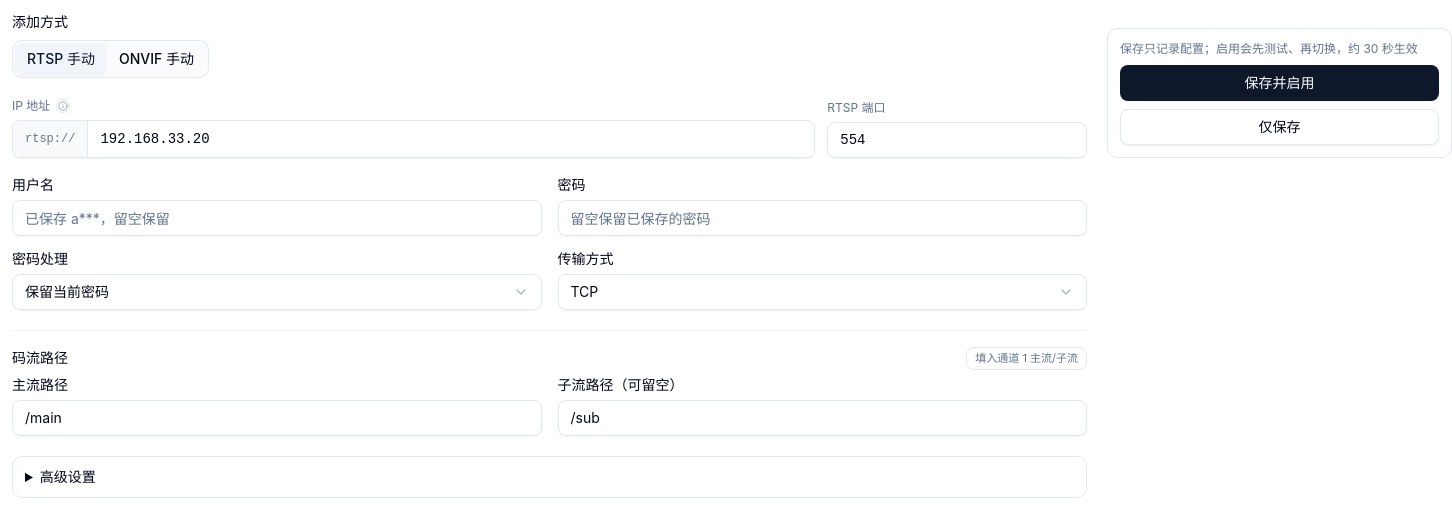
Test: a known brand offers its RTSP path template
Click the button "填入通道 1 主流/子流": (1027, 358) [966,347,1087,370]
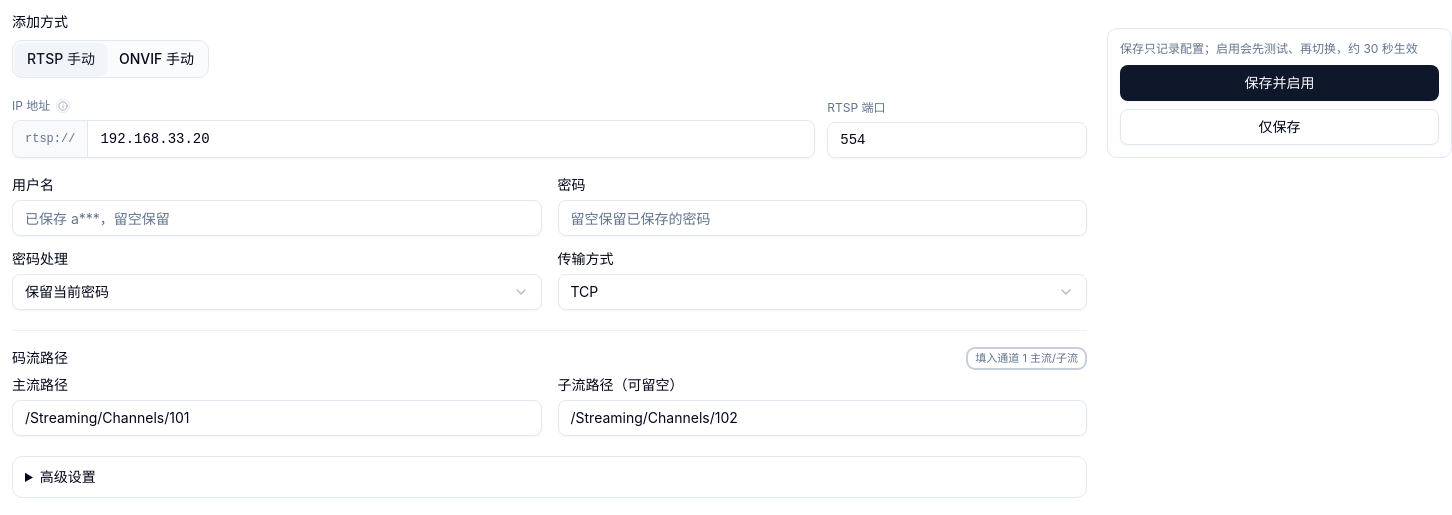
Expected: the field labelled "主流路径" holds "/Streaming/Channels/101", [12,400,542,436]
Expected: the field labelled "子流路径（可留空）" holds "/Streaming/Channels/102", [558,400,1087,436]
